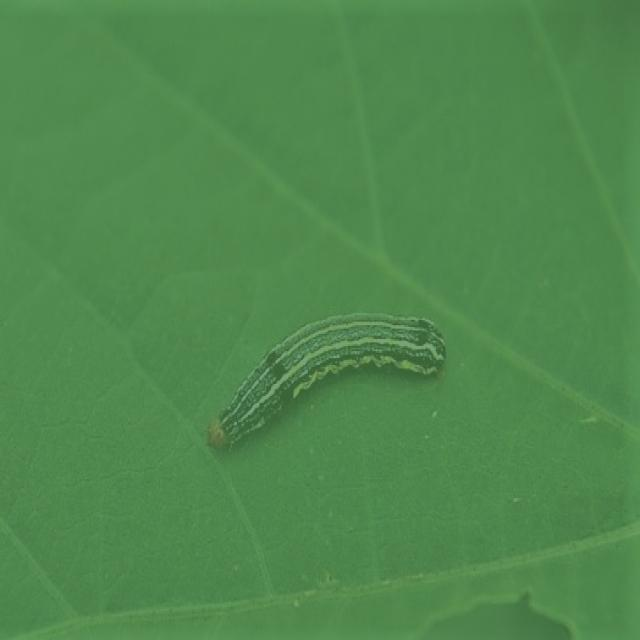armyworm: (206, 309, 446, 452)
